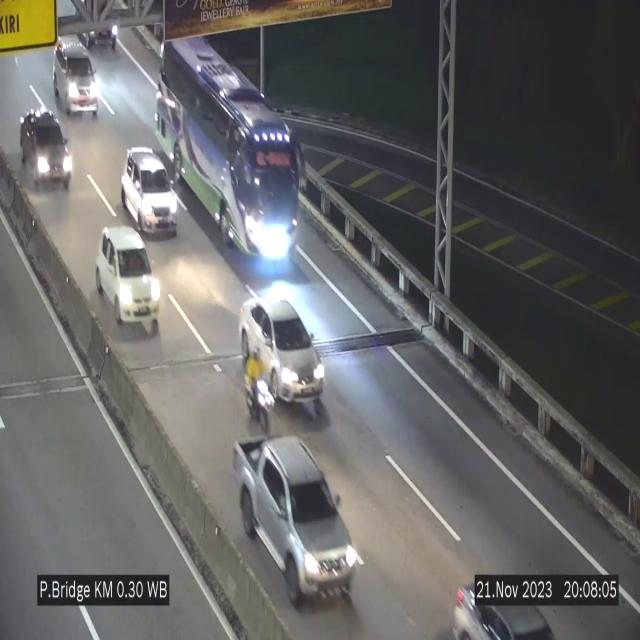Bus: (156, 35, 296, 265)
Car: (233, 437, 359, 606), (240, 293, 325, 414), (444, 576, 557, 640), (96, 227, 159, 326), (21, 99, 75, 200), (54, 38, 108, 132), (122, 147, 178, 234)
Motorcycle: (242, 340, 272, 432)
